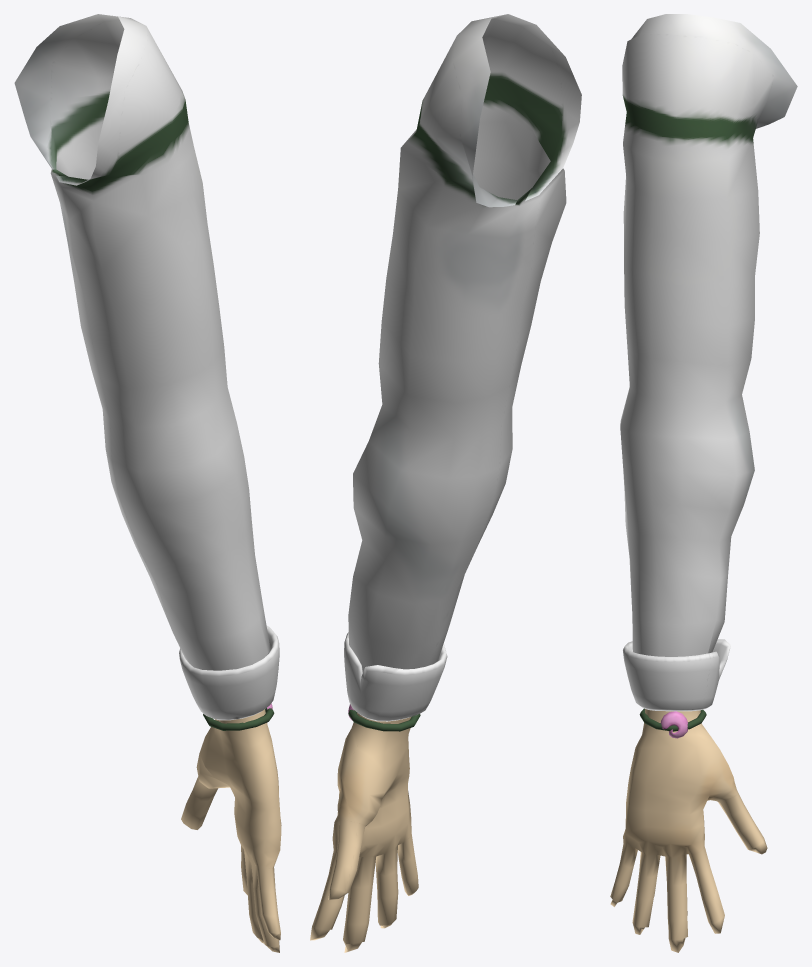
File: BrazoDer.obj
3 views of the same model, side by side, from view 1: azimuth 30°, elevation 25°; view 2: azimuth 150°, elevation 25°; view 3: azimuth 270°, elevation 25° (orthographic). The views are drawn at different scales.
Parts seen in each view (by area): view 1: jacket_lp.001; view 2: jacket_lp.001; view 3: jacket_lp.001.
Part boxes in pixels (bbox=[...]): jacket_lp.001: bbox=[14, 14, 281, 952]; jacket_lp.001: bbox=[310, 14, 581, 952]; jacket_lp.001: bbox=[610, 14, 797, 952].
Bounding box in the file's own units: 0.3304 × 1.4 × 0.273.
Materials: 1 (1 with a texture image).
